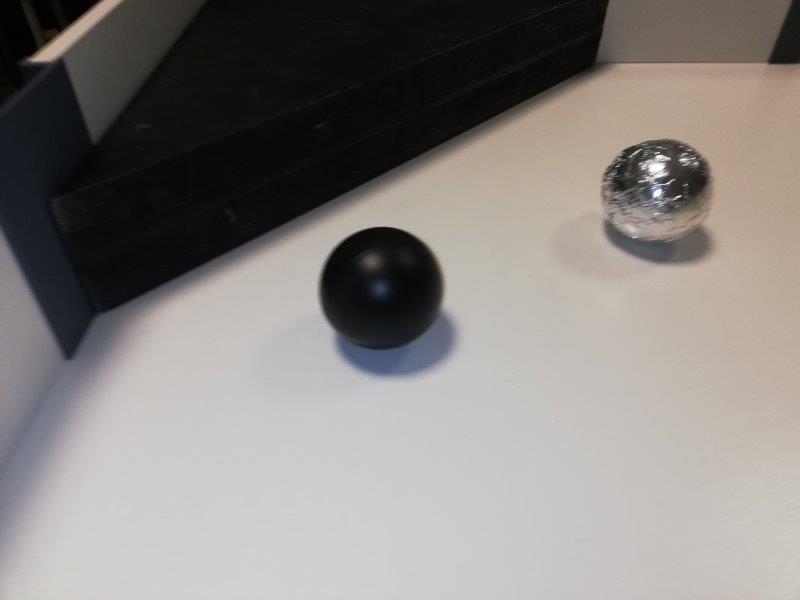bianca: (601, 137, 713, 248)
nera: (318, 226, 442, 349)
